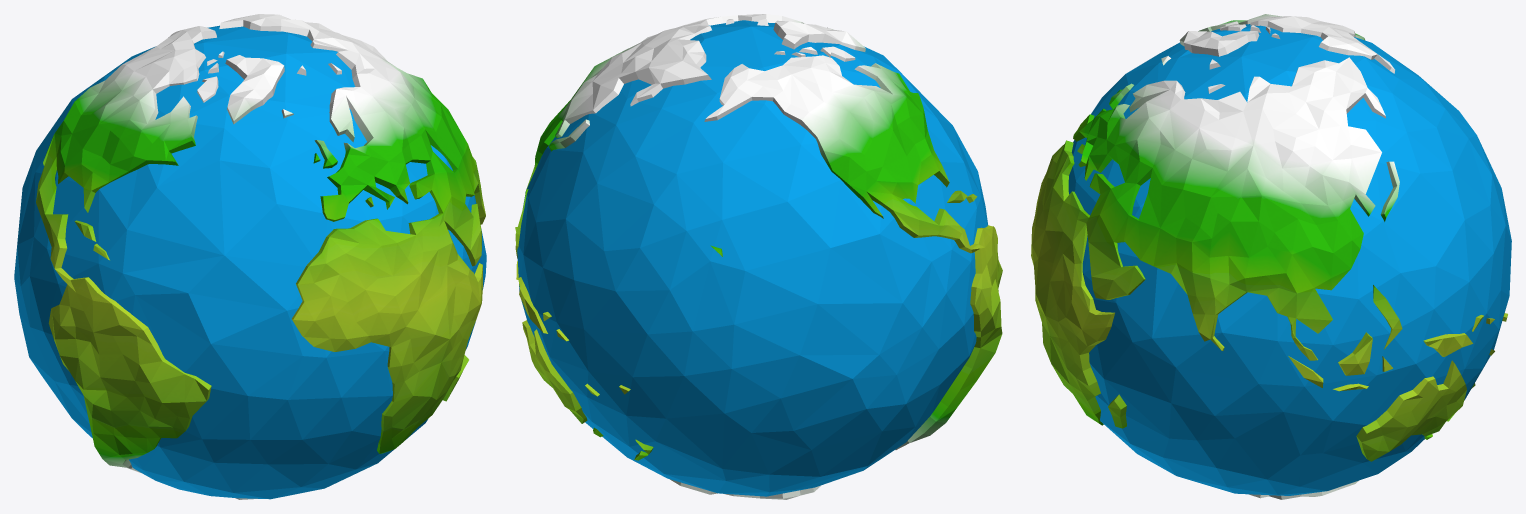
Rendered from low_poly_earth.glb.
3 renders of one model, left to right at view 1: azimuth 30°, elevation 25°; view 2: azimuth 150°, elevation 25°; view 3: azimuth 270°, elevation 25°, orthographic.
Visible parts, largest first — view 1: Earth_Ground; view 2: Earth_Ground; view 3: Earth_Ground.
Part boxes in pixels (left/top/right/bottom): Earth_Ground: left=14, top=14, right=486, bottom=499; Earth_Ground: left=515, top=14, right=1002, bottom=499; Earth_Ground: left=1031, top=14, right=1511, bottom=499.
Bounding box in the file's own units: 1.73 × 1.74 × 1.72.
2 materials, 1 textured.
